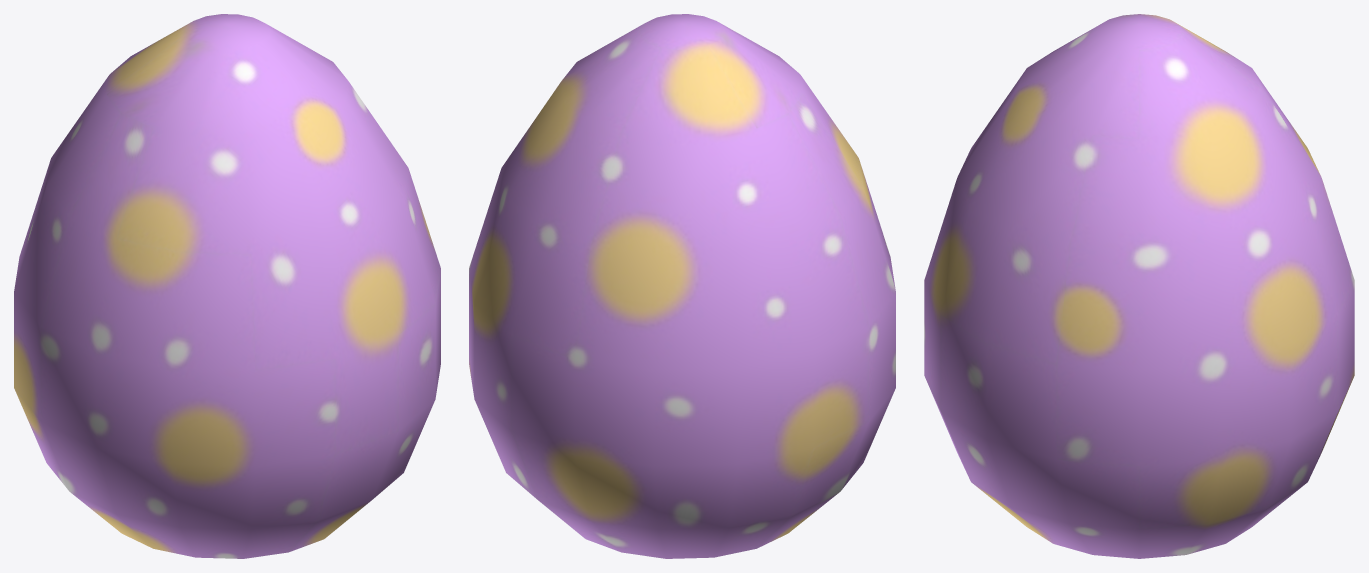
3 renders of one model, left to right at view 1: azimuth 30°, elevation 25°; view 2: azimuth 150°, elevation 25°; view 3: azimuth 270°, elevation 25°, orthographic.
Visible parts, largest first — view 1: Egg-LowPoly-Spotty_0; view 2: Egg-LowPoly-Spotty_0; view 3: Egg-LowPoly-Spotty_0.
Boxes of the visible parts, x1=… form: Egg-LowPoly-Spotty_0: x1=14, y1=14, x2=440, y2=558; Egg-LowPoly-Spotty_0: x1=469, y1=14, x2=895, y2=558; Egg-LowPoly-Spotty_0: x1=924, y1=14, x2=1354, y2=558.
Size of the model in its own units: 1.96 by 2.6 by 1.96.
Materials: 1 (1 with a texture image).
